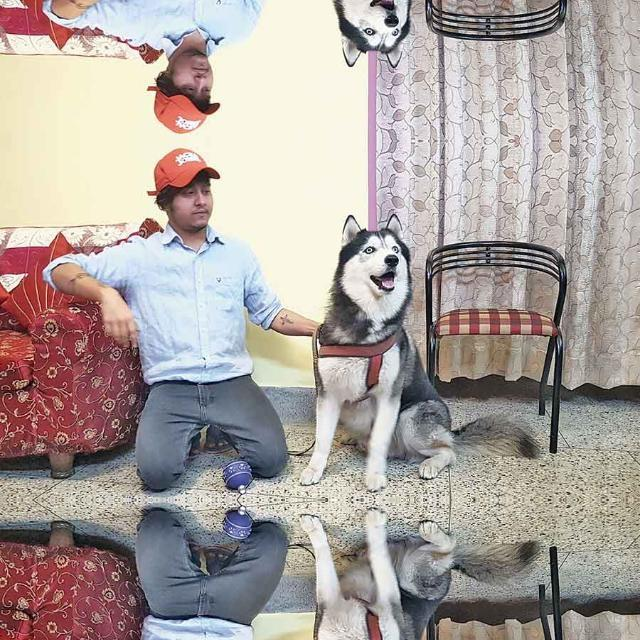dog: (308, 206, 462, 488), (308, 512, 461, 640), (308, 0, 461, 74)
person: (68, 144, 296, 482), (68, 0, 296, 136), (68, 517, 296, 640)
